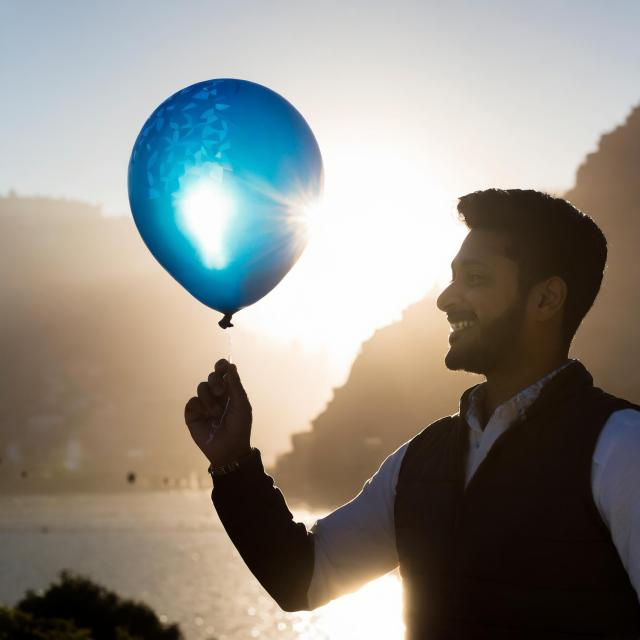blue: (131, 80, 324, 316)
